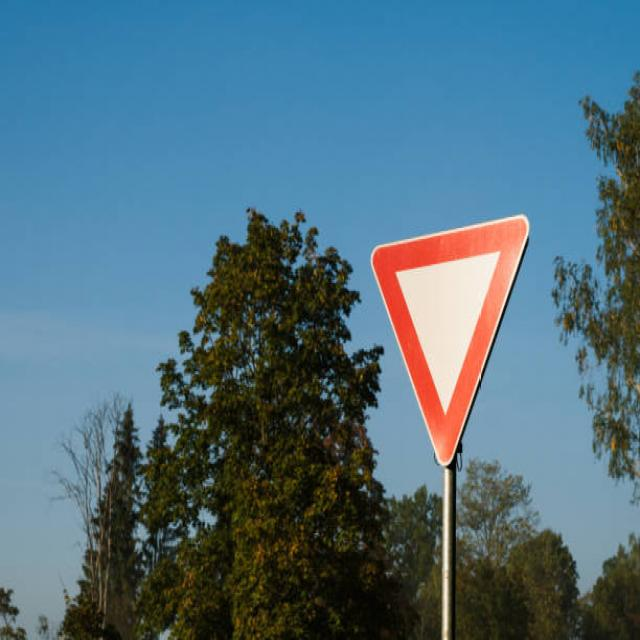give_way: (360, 211, 538, 470)
